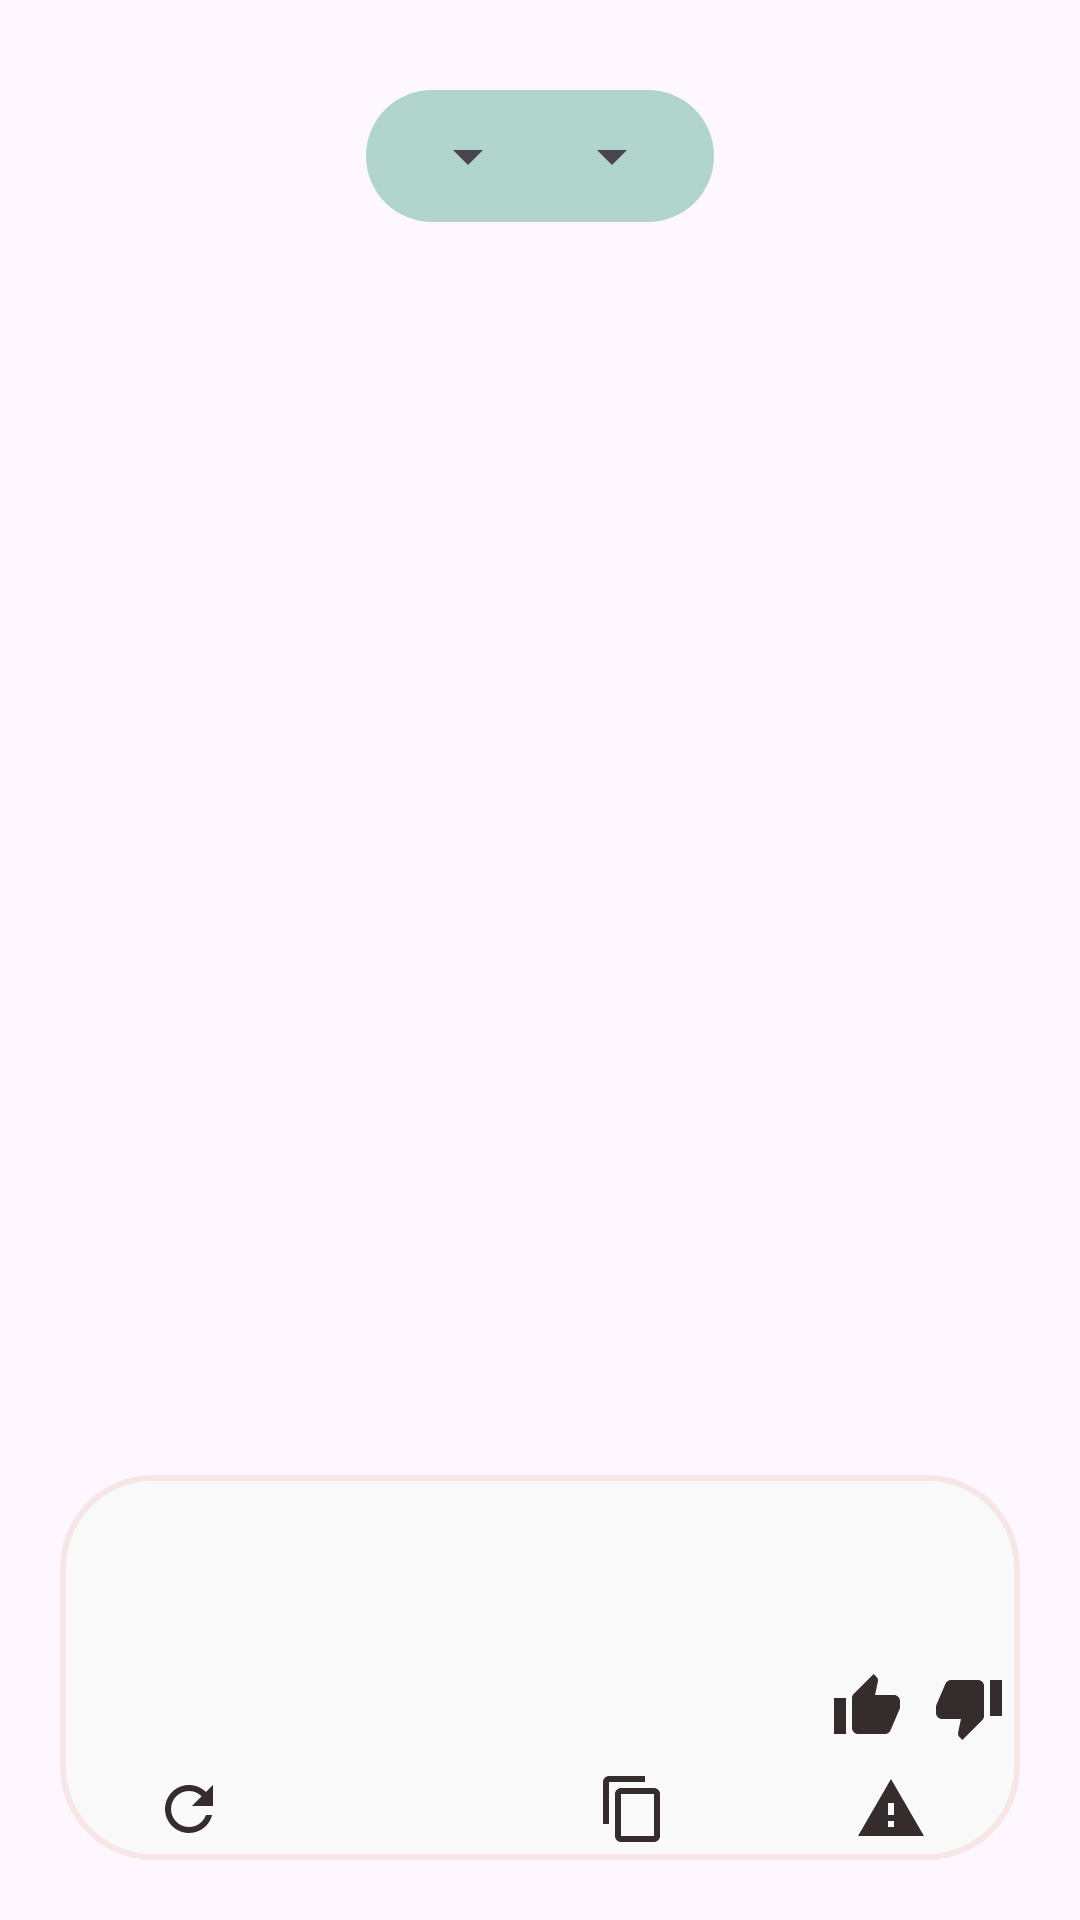

Icons on this 1080w x 1920h Android screen, each with its box as (x1, y1, x2, y2):
refresh: (165, 1785, 213, 1833)
spam: (858, 1779, 924, 1836)
thumb down: (936, 1680, 1002, 1740)
thumb up: (834, 1674, 900, 1734)
